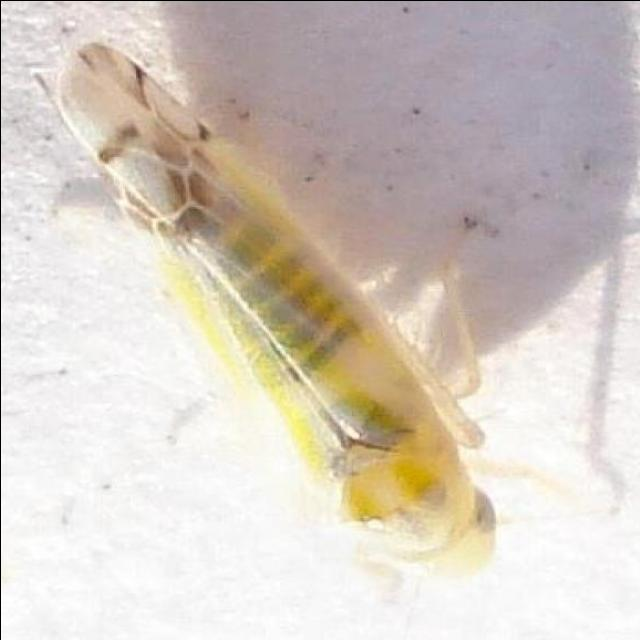green leaf hopper: (59, 44, 494, 568)
